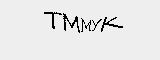К: (101, 12, 123, 32)
М: (64, 15, 80, 33), (82, 17, 92, 32)
Т: (42, 8, 61, 32)
У: (92, 17, 100, 34)
